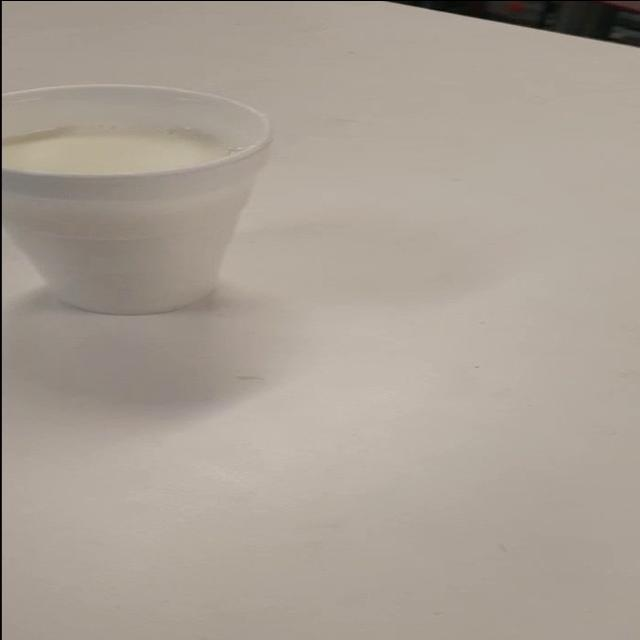Milk: (0, 69, 298, 327)
